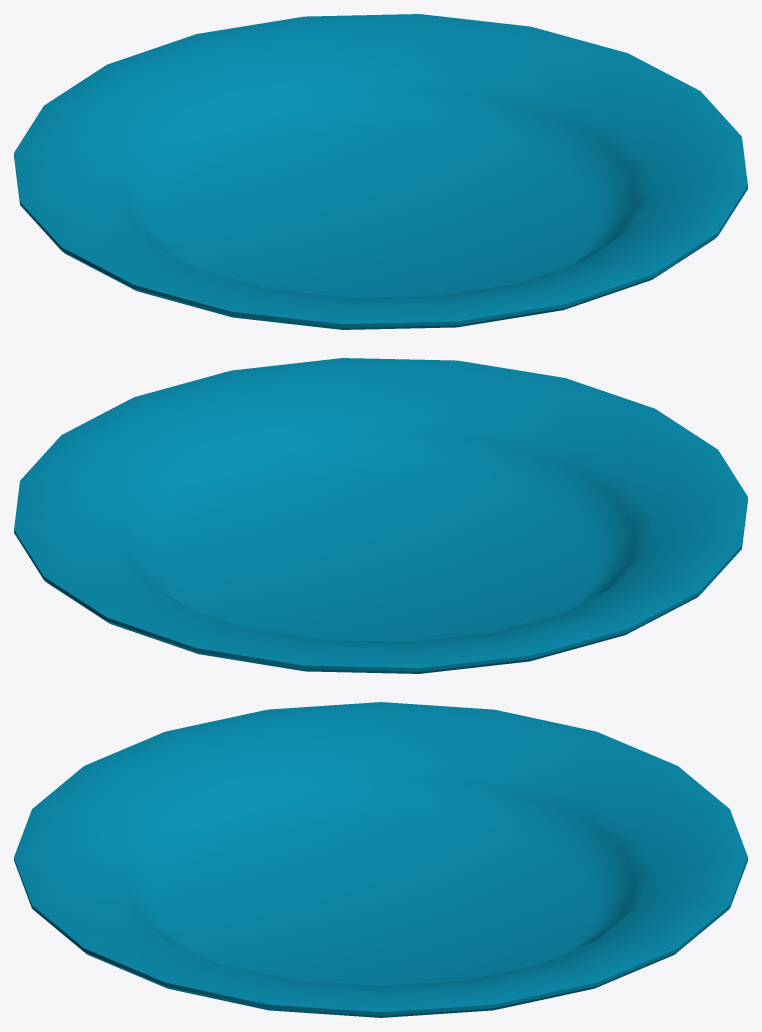
Rendered from BluePlate.fbx.
3 views of the same model, one above another, from view 1: azimuth 30°, elevation 25°; view 2: azimuth 150°, elevation 25°; view 3: azimuth 270°, elevation 25° (orthographic).
Visible parts, largest first — view 1: pCylinder1; view 2: pCylinder1; view 3: pCylinder1.
Part boxes in pixels (bbox=[...]): pCylinder1: bbox=[14, 14, 747, 329]; pCylinder1: bbox=[14, 358, 747, 673]; pCylinder1: bbox=[14, 702, 747, 1017].
Size of the model in its own units: 2.52 by 0.2146 by 2.52.
